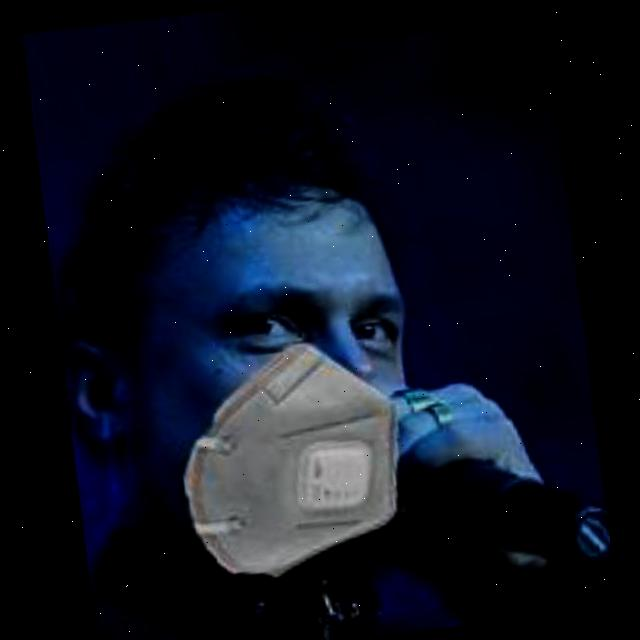suspicion: (88, 166, 415, 590)
